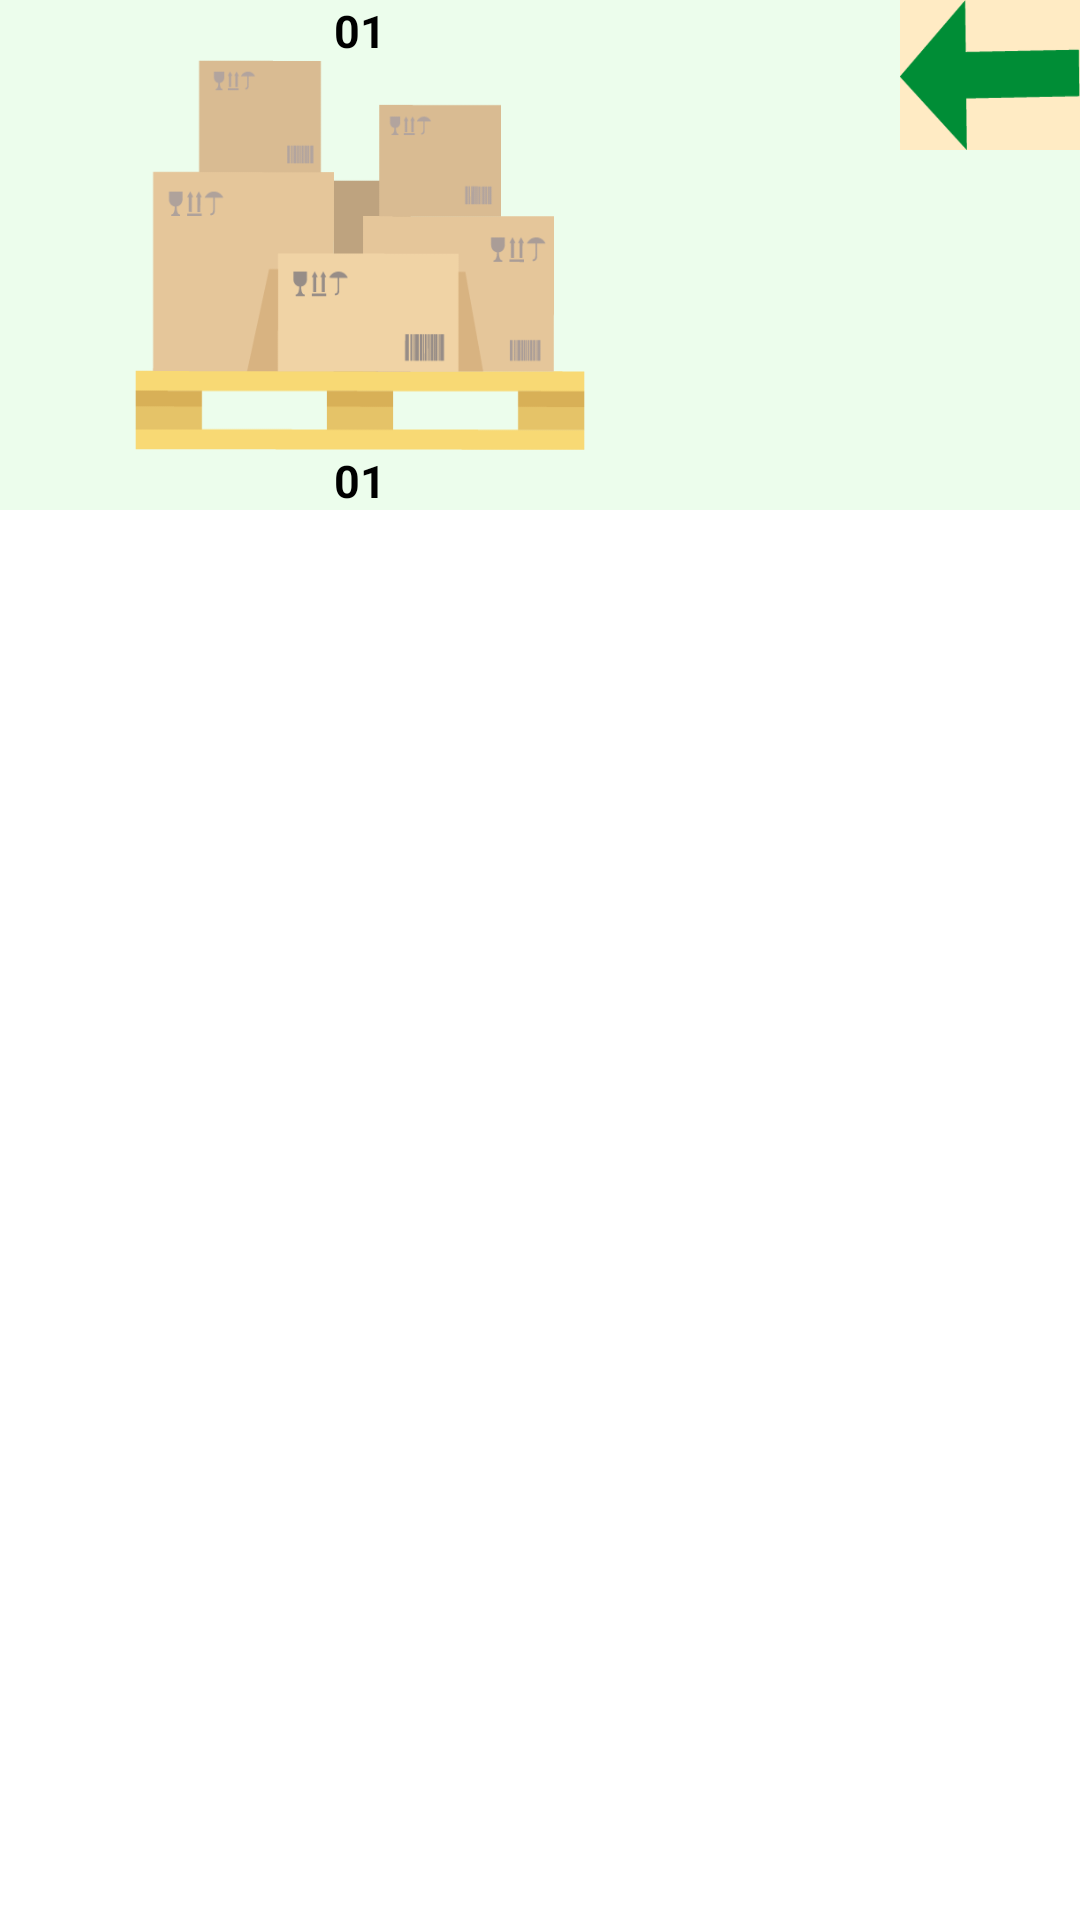

Screen size 1080px×1920px. Icon name, then its center in pixels as (x=x, y=y):
girisok: (x=990, y=75)
